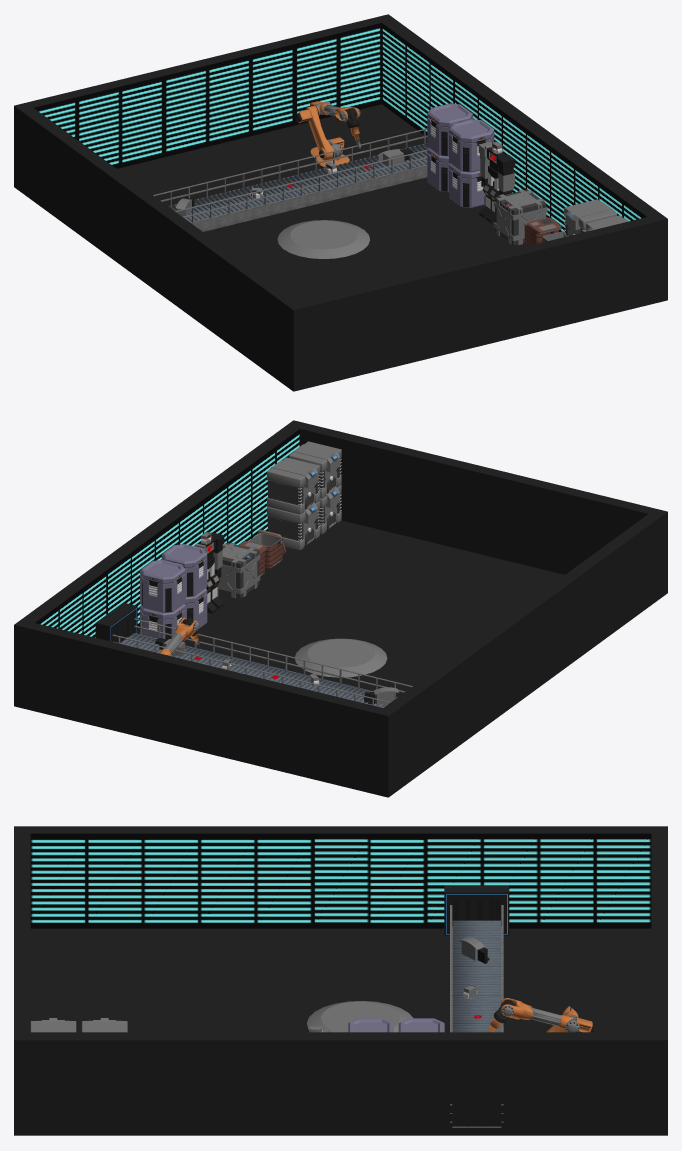
Rendered from lab3-4nh1.glb.
3 views of the same model, one above another, from view 1: azimuth 30°, elevation 25°; view 2: azimuth 150°, elevation 25°; view 3: azimuth 270°, elevation 25° (orthographic). The views are drawn at different scales.
Parts seen in each view (by area): view 1: Object_467, Object_467.001, Cube, Cylinder, Object_301, Cylinder.011, Crate-4x4x4-2, Object_1207, Component#32.001, Component#32.008, Component#32.002, Component#72.014 (+2 smaller); view 2: Object_467, Object_467.001, Object_301, Cylinder, Cube, Component#72.014, Component#32.008, Crate-4x4x4-2, Component#72.001, Component#72.002, Component#32.001, Object_1207 (+6 smaller); view 3: Object_467, Object_467.001, Cylinder, Object_1198.001, Object_301, Cylinder.011, Cube, Component#32.008, Component#32.001, Component#72.014, Component#72.002, Object_1207.002.
Boxes of the visible parts, x1,y1,x2,y2 form: Object_467: (14, 14, 667, 391); Object_467.001: (34, 23, 646, 231); Cube: (153, 128, 427, 231); Cylinder: (168, 143, 428, 222); Object_301: (277, 220, 369, 258); Cylinder.011: (295, 101, 360, 168); Crate-4x4x4-2: (494, 189, 547, 244); Object_1207: (478, 141, 515, 222); Component#32.001: (449, 119, 494, 172); Component#32.008: (427, 103, 472, 156); Component#32.002: (449, 163, 486, 207); Component#72.014: (564, 199, 616, 237); Object_467: (14, 420, 667, 797); Object_467.001: (35, 429, 299, 637); Object_301: (295, 638, 387, 677); Cylinder: (120, 633, 397, 707); Cube: (112, 618, 412, 707); Component#72.014: (267, 457, 319, 514); Component#32.008: (140, 560, 185, 613); Crate-4x4x4-2: (217, 542, 260, 598); Component#72.001: (267, 501, 319, 550); Component#72.002: (289, 441, 341, 498); Component#32.001: (161, 544, 207, 597); Object_1207: (193, 531, 224, 613); Object_467: (14, 826, 667, 1135); Object_467.001: (30, 833, 651, 928); Cylinder: (452, 920, 500, 1032); Object_1198.001: (444, 885, 509, 935); Object_301: (307, 1001, 413, 1032); Cylinder.011: (487, 998, 594, 1032); Cube: (450, 905, 503, 1127); Component#32.008: (398, 1018, 444, 1032); Component#32.001: (348, 1018, 394, 1032); Component#72.014: (81, 1018, 127, 1032); Component#72.002: (30, 1018, 76, 1032); Object_1207.002: (458, 937, 489, 963).
Size of the model in its own units: 13.48 by 2.8 by 17.35.
14 materials, 4 textured.
